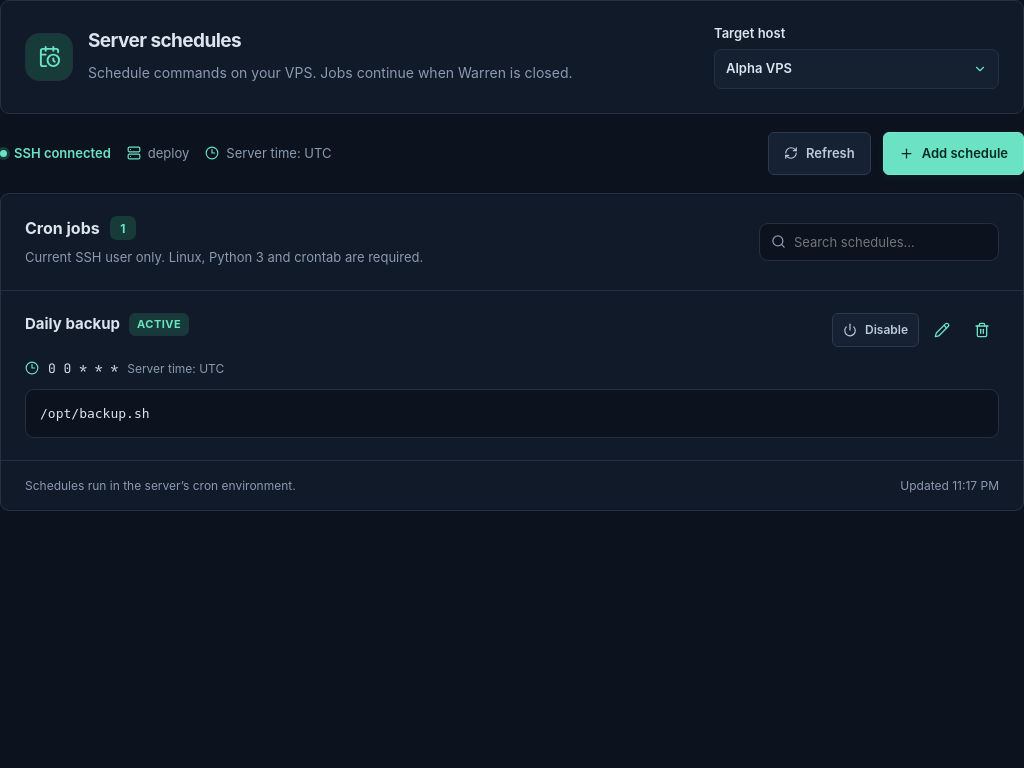
Scenario: confirms deletion for the selected host and removes only the requested job
The width and height of the screenshot is (1024, 768).
Check: the heading "Daily backup" is shown, box [25,313,120,336]
Click the button named "Delete schedule: Daily backup" at [982, 330], box [965,313,999,347]
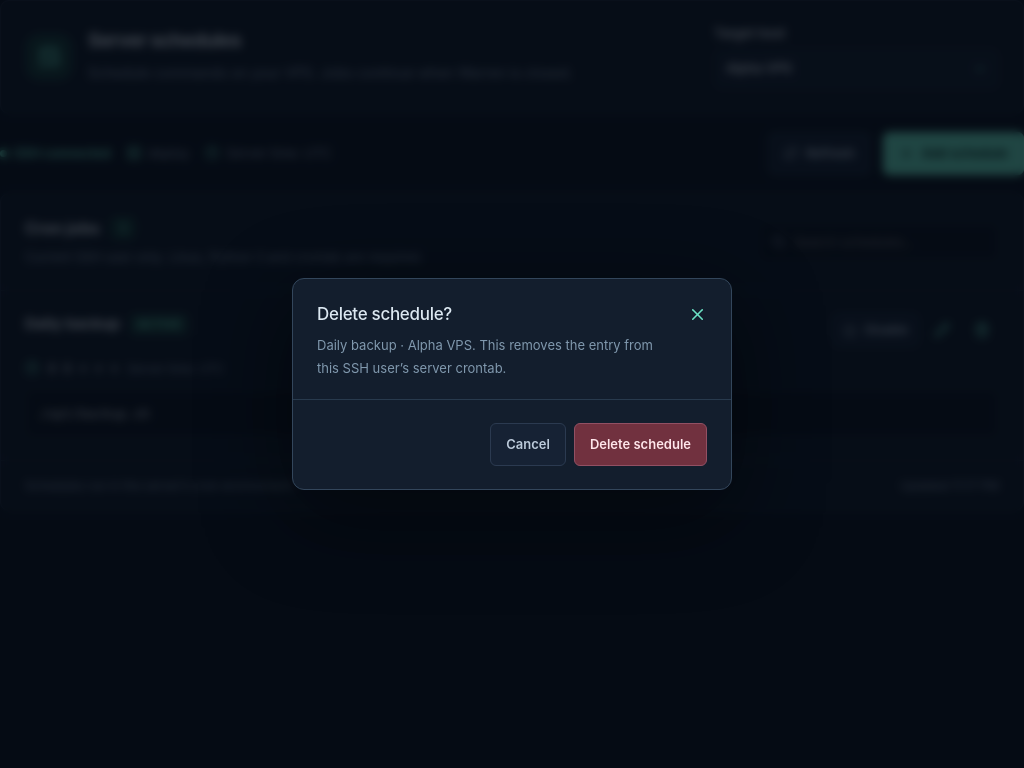
Check: the dialog shows "Daily backup · Alpha VPS", box [317,337,653,376]
Click the button "Delete schedule" at [640, 444], box [574,423,707,466]
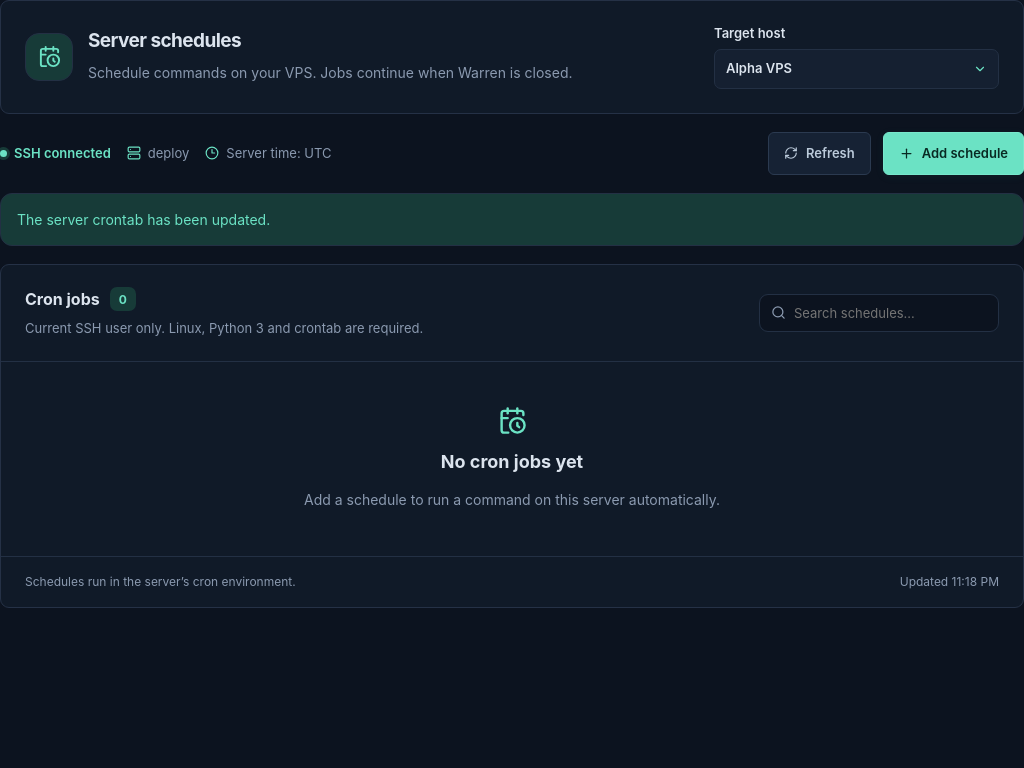
Check: the heading "No cron jobs yet" is shown, box [441,448,583,475]
